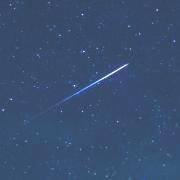meteorite: (40, 58, 132, 118)
